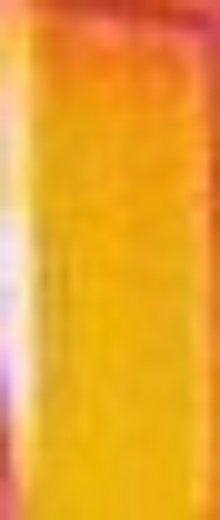Diode: (1, 22, 39, 498)
